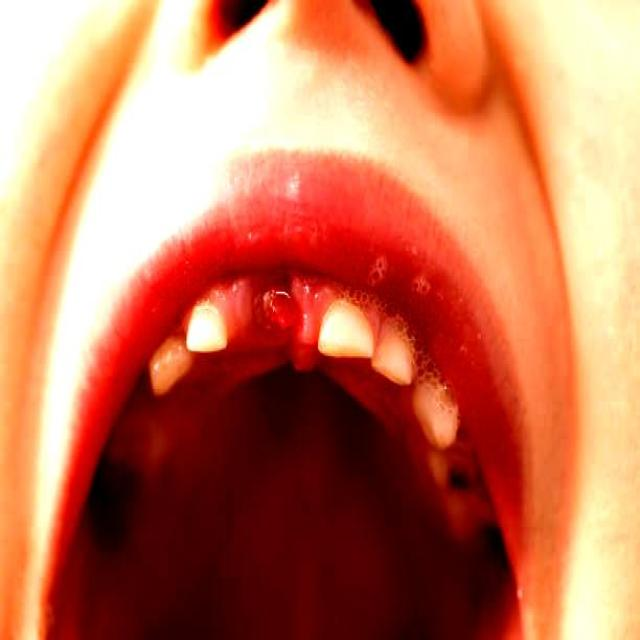caries: (430, 442, 490, 518)
